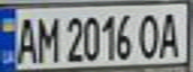0: (81, 11, 100, 62)
1: (100, 10, 118, 61)
2: (63, 11, 84, 63)
6: (115, 10, 139, 61)
A: (12, 12, 39, 64), (157, 8, 184, 59)
M: (33, 12, 60, 63)
O: (136, 9, 163, 60)
